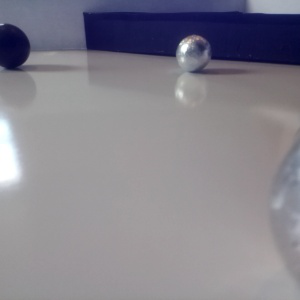zone: (83, 11, 300, 66)
